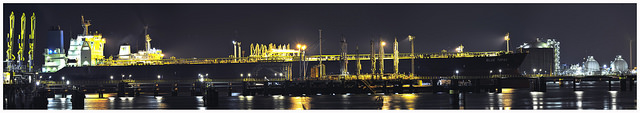tanker: (46, 21, 532, 78)
